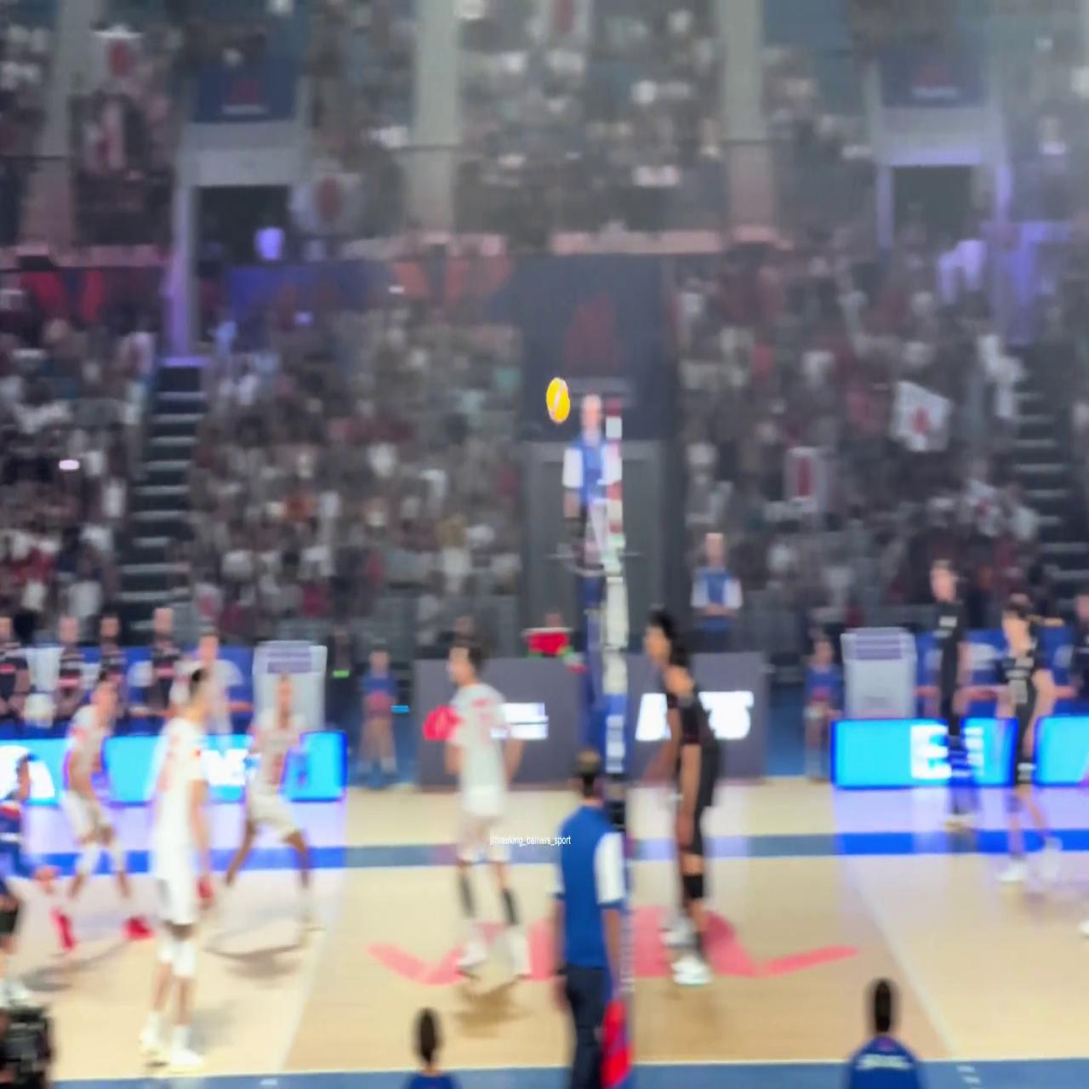ball: (546, 377, 570, 423)
